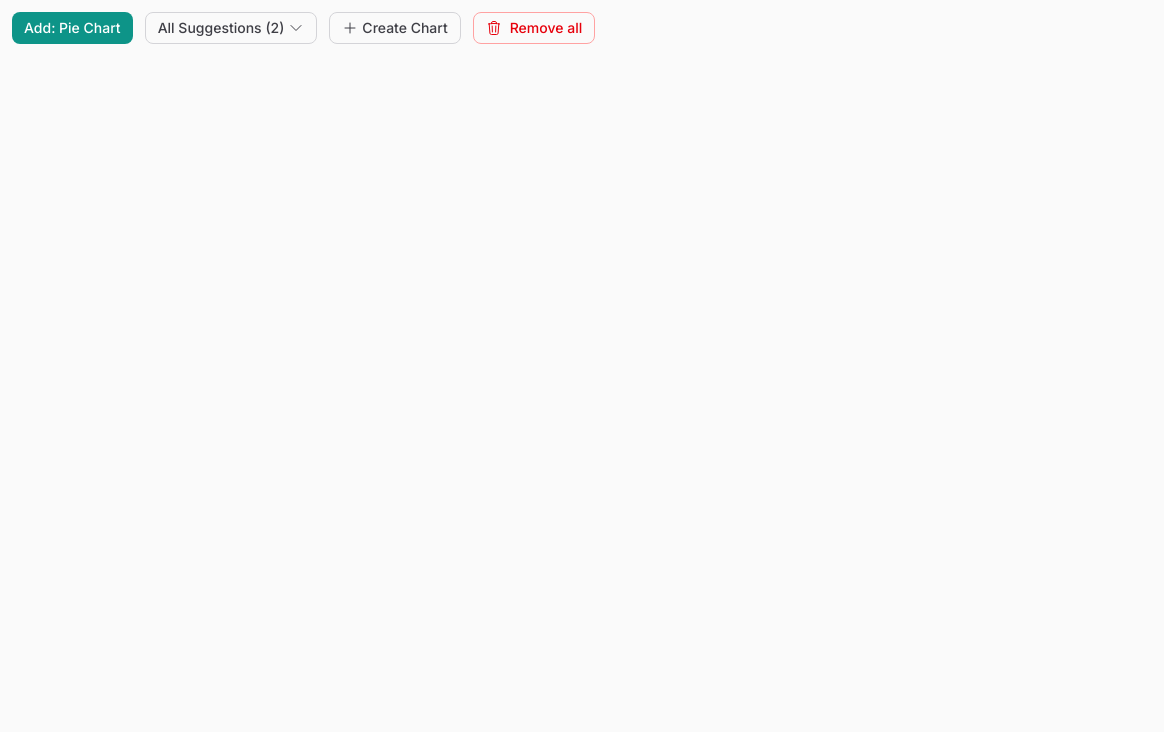
Test: ChartControls › Suggestions Dropdown Functionality › closes suggestions dropdown when clicking outside
Note: Open dropdown
Click the button "All Suggestions (2)": (231, 28) [145,12,317,44]
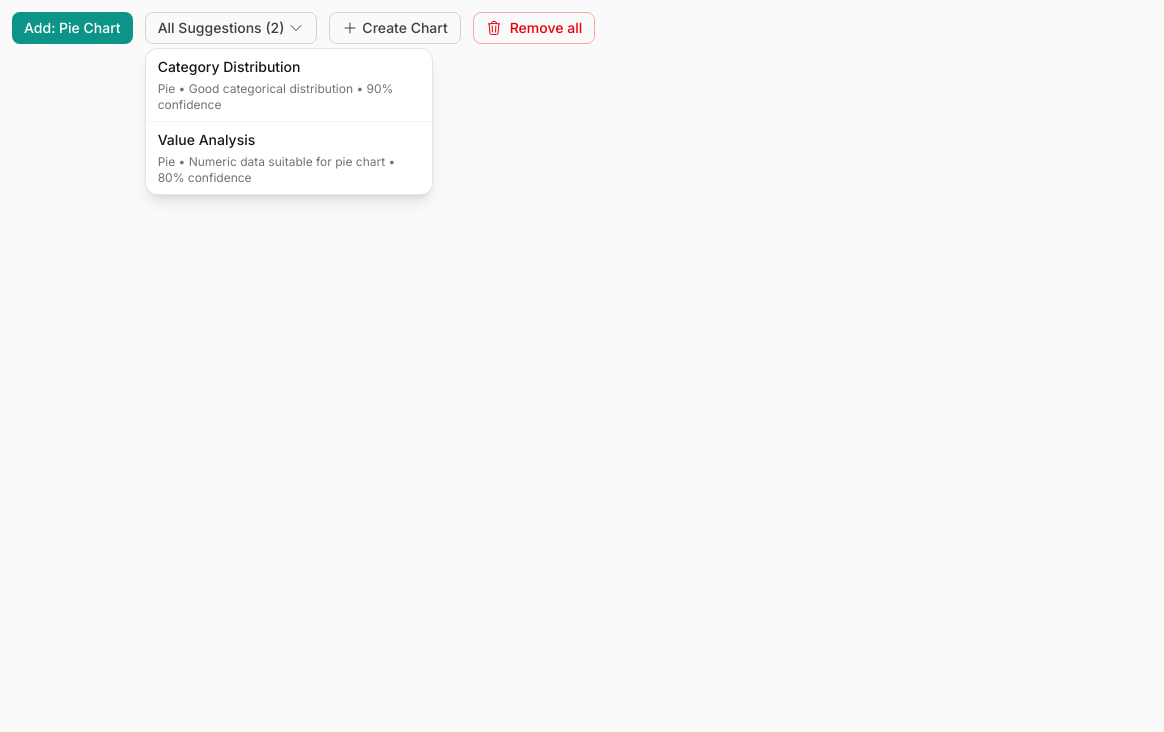
Expected: the text "Category Distribution" is shown, [158,58,300,75]
Note: Click outside
Press the mouse on the element that starts with "Add: Pie Chart": (588, 372) [12,12,1163,731]
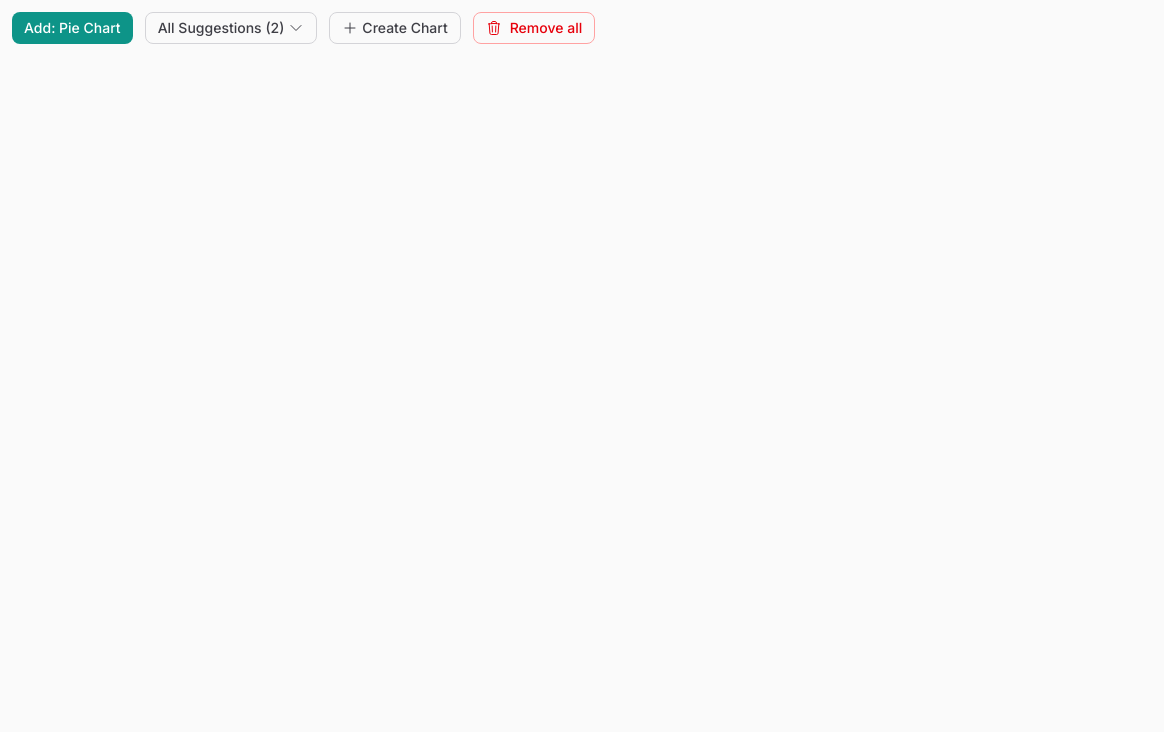
Expected: the button "Category Distribution" is gone
